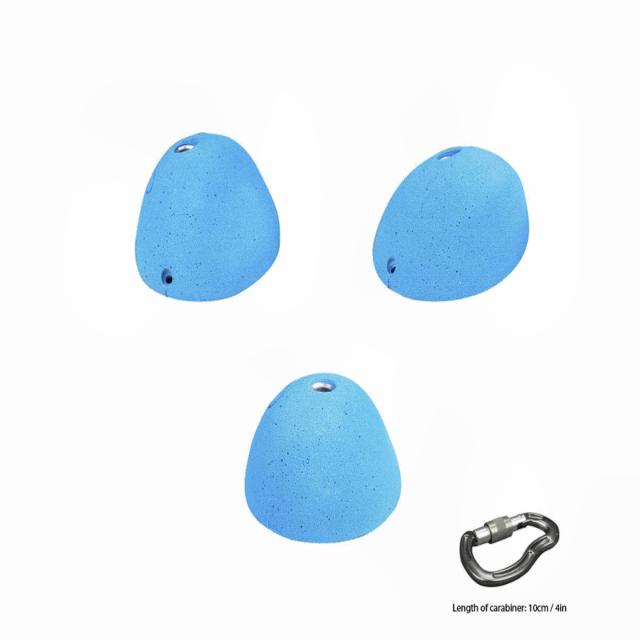Hold: (129, 129, 289, 307), (245, 372, 402, 550), (374, 137, 532, 311)
